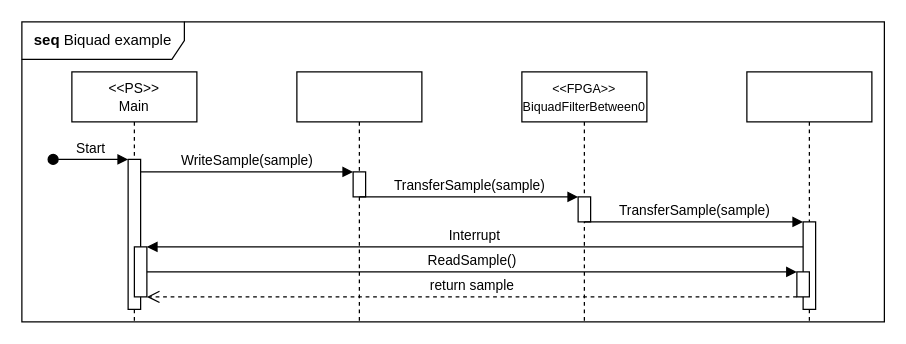
The diagram is 906 pixels wide and 344 high, and some of its shapes have lost their labels. The box of each missing label's shape, as (x1, y1, x2, y2) in pixels:
<<FPGA>> BiquadFilterEnd: (746, 71, 872, 322)
<<FPGA>> BiquadFilterStart: (296, 71, 422, 322)
